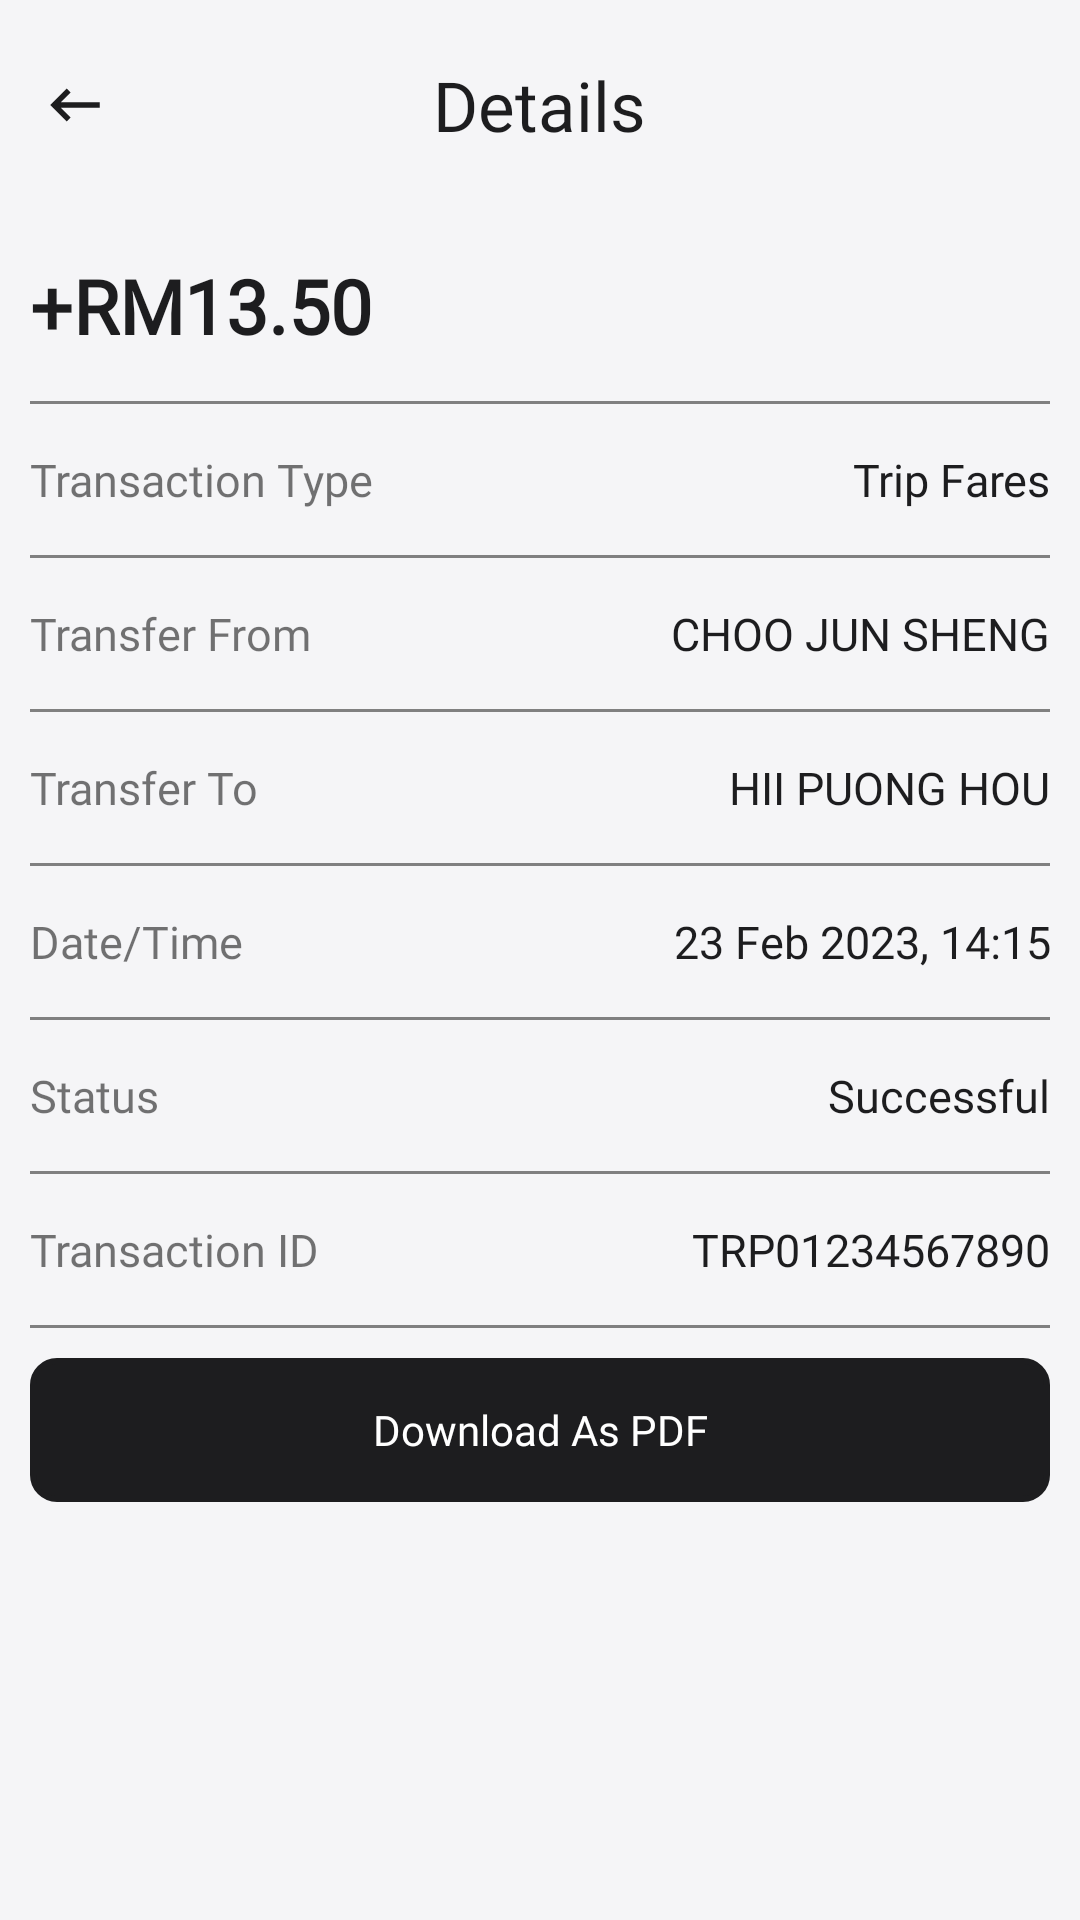

Icons on this 1080x1920 Android screen, each with its box as bbox=[x1, y1, x2, y2]:
keyboard backspace: bbox=[50, 88, 100, 122]
